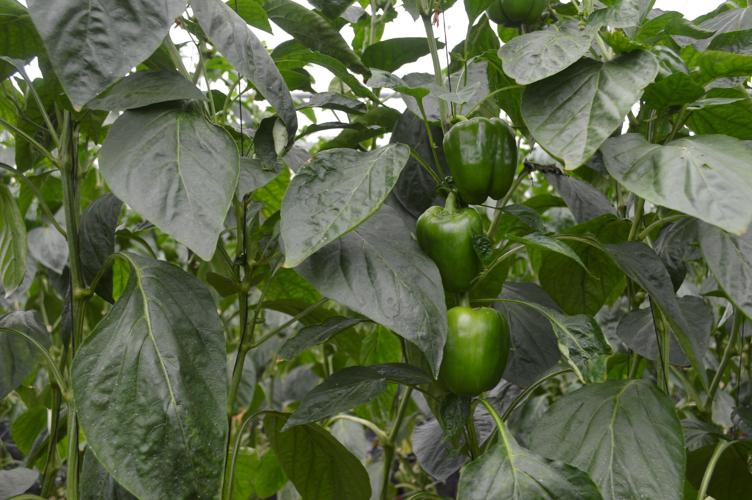BellPepper: (432, 117, 523, 202), (433, 304, 510, 392), (416, 206, 482, 291)
